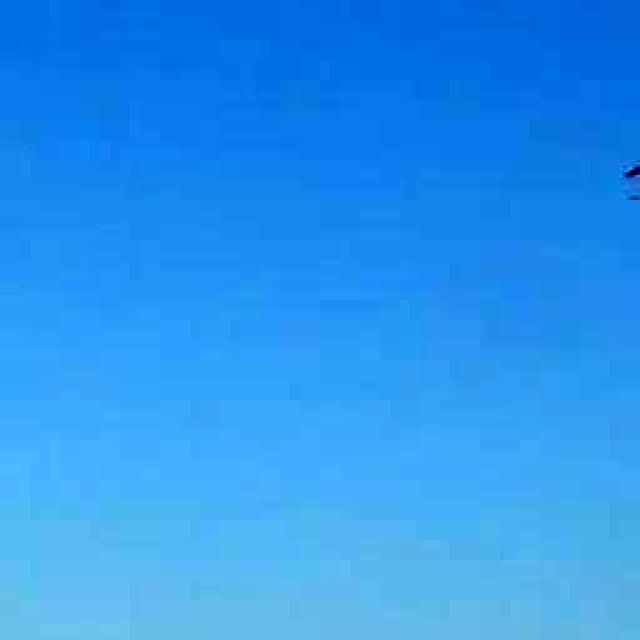bird: (612, 132, 640, 222)
